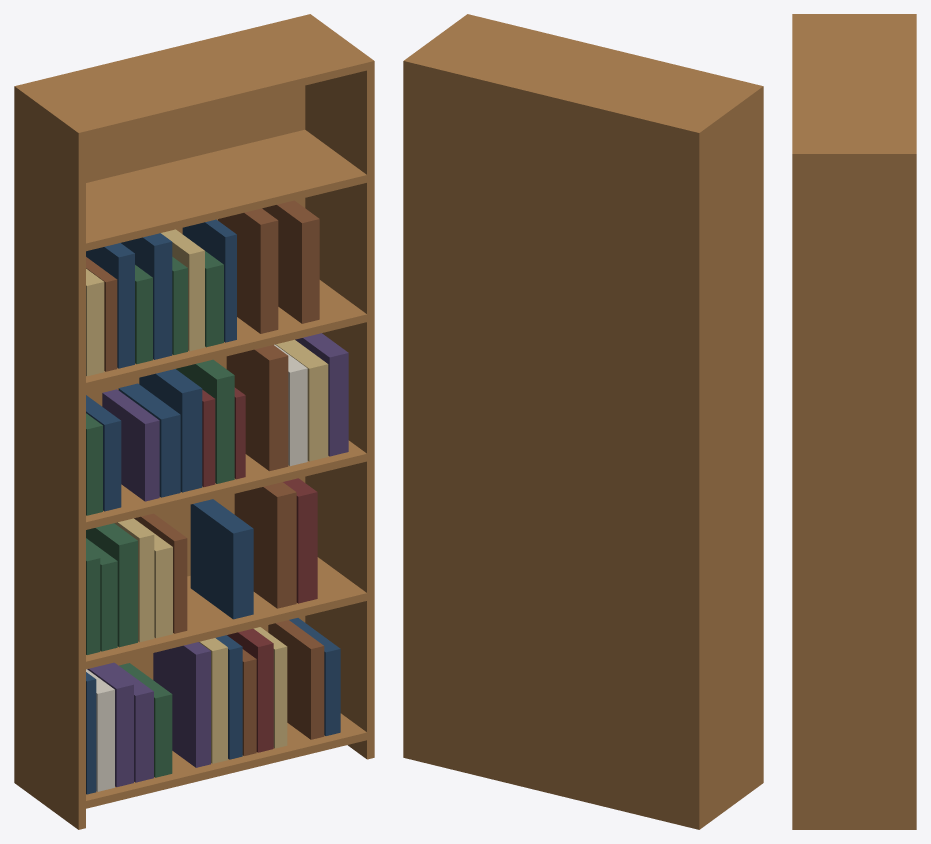
The model's file is bookshelf.glb.
The picture shows the model from 3 angles, left to right: view 1: azimuth 30°, elevation 25°; view 2: azimuth 150°, elevation 25°; view 3: azimuth 270°, elevation 25°; orthographic projection. The views are drawn at different scales.
Parts seen in each view (by area): view 1: Bookshelf; view 2: Bookshelf; view 3: Bookshelf.
Part boxes in pixels (x1,y1,x2,y2): Bookshelf: (14, 14, 374, 829); Bookshelf: (403, 14, 763, 829); Bookshelf: (792, 14, 916, 829).
Size of the model in its own units: 0.8 by 1.8 by 0.3.
